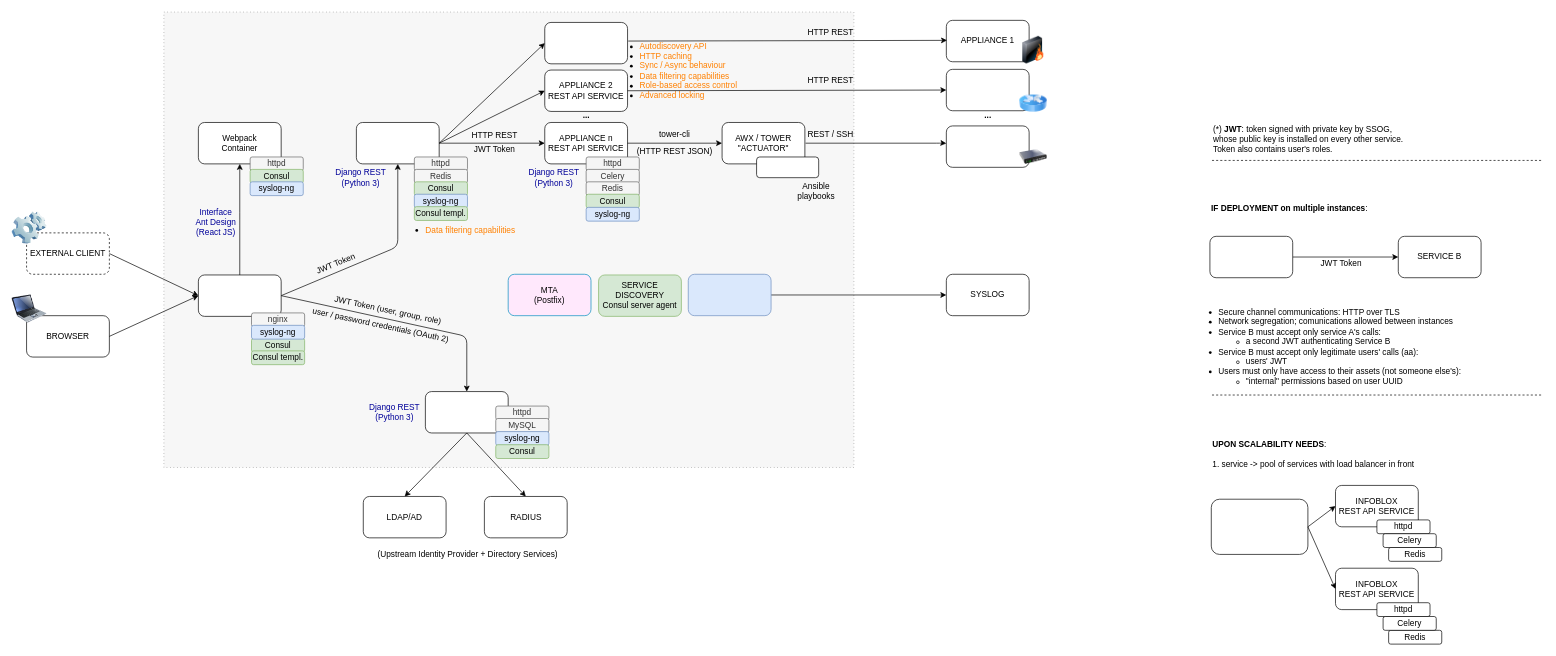
Some shapes in this 1556 by 656 pixel diagram are drawn without their labels. The shapes that lost their labels are listed below. From the top down, each one's centre as x and y in pixels, then its label:
At [586,43]: "APPLIANCE 1 REST API SERVICE".
At [987,90]: "APPLIANCE 2".
At [397,143]: "BACKEND (cache, permissions, workflow)".
At [987,146]: "APPLIANCE n".
At [787,167]: "Ansible".
At [1251,257]: "SERVICE A".
At [239,295]: "API GATEWAY Rev.proxy TLS offload".
At [729,295]: "LOG COLLECTOR (syslog-ng)".
At [466,412]: "SSO GATEWAY".
At [1259,526]: "LOAD BAL. (nginx/Traefik/...)".
